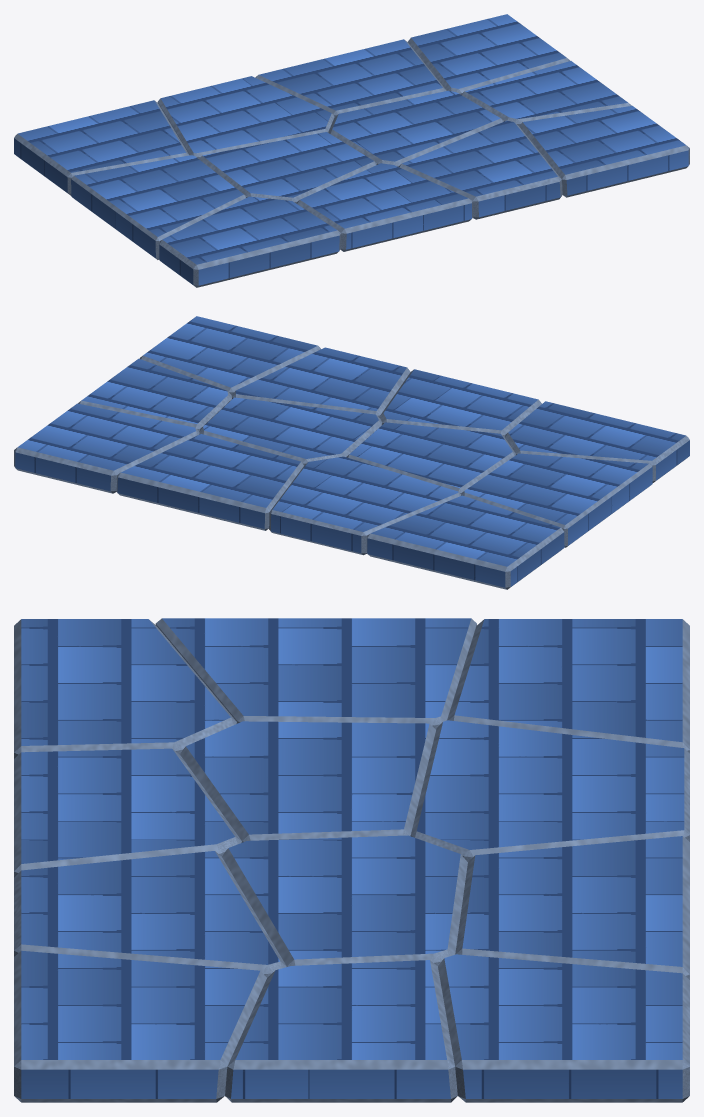
The model's file is Kit_Roof_Roof_Fractured.fbx.
3 renders of one model, top to bottom at view 1: azimuth 30°, elevation 25°; view 2: azimuth 150°, elevation 25°; view 3: azimuth 270°, elevation 25°, orthographic. The views are drawn at different scales.
Parts seen in each view (by area): view 1: Kit_Roof_Roof_frag_01, Kit_Roof_Roof_frag_02, Kit_Roof_Roof_frag_10, Kit_Roof_Roof_frag_04, Kit_Roof_Roof_frag_06, Kit_Roof_Roof_frag_07, Kit_Roof_Roof_frag_03, Kit_Roof_Roof_frag_09, Kit_Roof_Roof_frag_08, Kit_Roof_Roof_frag_05, Kit_Roof_Roof_frag_12, Kit_Roof_Roof_frag_11; view 2: Kit_Roof_Roof_frag_03, Kit_Roof_Roof_frag_09, Kit_Roof_Roof_frag_06, Kit_Roof_Roof_frag_02, Kit_Roof_Roof_frag_12, Kit_Roof_Roof_frag_01, Kit_Roof_Roof_frag_08, Kit_Roof_Roof_frag_10, Kit_Roof_Roof_frag_05, Kit_Roof_Roof_frag_07, Kit_Roof_Roof_frag_04, Kit_Roof_Roof_frag_11; view 3: Kit_Roof_Roof_frag_12, Kit_Roof_Roof_frag_10, Kit_Roof_Roof_frag_06, Kit_Roof_Roof_frag_11, Kit_Roof_Roof_frag_02, Kit_Roof_Roof_frag_09, Kit_Roof_Roof_frag_03, Kit_Roof_Roof_frag_08, Kit_Roof_Roof_frag_05, Kit_Roof_Roof_frag_07, Kit_Roof_Roof_frag_01, Kit_Roof_Roof_frag_04.
Part boxes in pixels (bbox=[...]): Kit_Roof_Roof_frag_01: bbox=[159, 196, 340, 287]; Kit_Roof_Roof_frag_02: bbox=[71, 155, 246, 259]; Kit_Roof_Roof_frag_10: bbox=[519, 106, 689, 197]; Kit_Roof_Roof_frag_04: bbox=[296, 163, 472, 251]; Kit_Roof_Roof_frag_06: bbox=[157, 76, 334, 158]; Kit_Roof_Roof_frag_07: bbox=[399, 120, 562, 219]; Kit_Roof_Roof_frag_03: bbox=[14, 100, 189, 195]; Kit_Roof_Roof_frag_09: bbox=[255, 39, 446, 117]; Kit_Roof_Roof_frag_08: bbox=[328, 90, 503, 166]; Kit_Roof_Roof_frag_05: bbox=[199, 132, 376, 203]; Kit_Roof_Roof_frag_12: bbox=[408, 14, 570, 94]; Kit_Roof_Roof_frag_11: bbox=[461, 61, 631, 125]; Kit_Roof_Roof_frag_03: bbox=[366, 495, 564, 589]; Kit_Roof_Roof_frag_09: bbox=[116, 434, 303, 530]; Kit_Roof_Roof_frag_06: bbox=[269, 456, 461, 555]; Kit_Roof_Roof_frag_02: bbox=[461, 453, 652, 547]; Kit_Roof_Roof_frag_12: bbox=[14, 403, 199, 493]; Kit_Roof_Roof_frag_01: bbox=[505, 401, 689, 482]; Kit_Roof_Roof_frag_08: bbox=[199, 397, 382, 465]; Kit_Roof_Roof_frag_10: bbox=[139, 316, 320, 394]; Kit_Roof_Roof_frag_05: bbox=[346, 422, 515, 494]; Kit_Roof_Roof_frag_07: bbox=[231, 347, 410, 417]; Kit_Roof_Roof_frag_04: bbox=[379, 369, 541, 437]; Kit_Roof_Roof_frag_11: bbox=[78, 358, 231, 431]; Kit_Roof_Roof_frag_12: bbox=[438, 954, 689, 1102]; Kit_Roof_Roof_frag_10: bbox=[14, 950, 266, 1102]; Kit_Roof_Roof_frag_06: bbox=[410, 720, 689, 861]; Kit_Roof_Roof_frag_11: bbox=[225, 960, 457, 1102]; Kit_Roof_Roof_frag_02: bbox=[155, 618, 476, 729]; Kit_Roof_Roof_frag_09: bbox=[455, 836, 689, 979]; Kit_Roof_Roof_frag_03: bbox=[447, 619, 689, 753]; Kit_Roof_Roof_frag_08: bbox=[222, 835, 467, 966]; Kit_Roof_Roof_frag_05: bbox=[180, 721, 435, 842]; Kit_Roof_Roof_frag_07: bbox=[14, 851, 286, 977]; Kit_Roof_Roof_frag_01: bbox=[14, 619, 236, 758]; Kit_Roof_Roof_frag_04: bbox=[14, 748, 241, 877].
Size of what is drawn, in the model's own units: 3.6 by 0.16 by 2.3.
2 materials, 2 textured.
